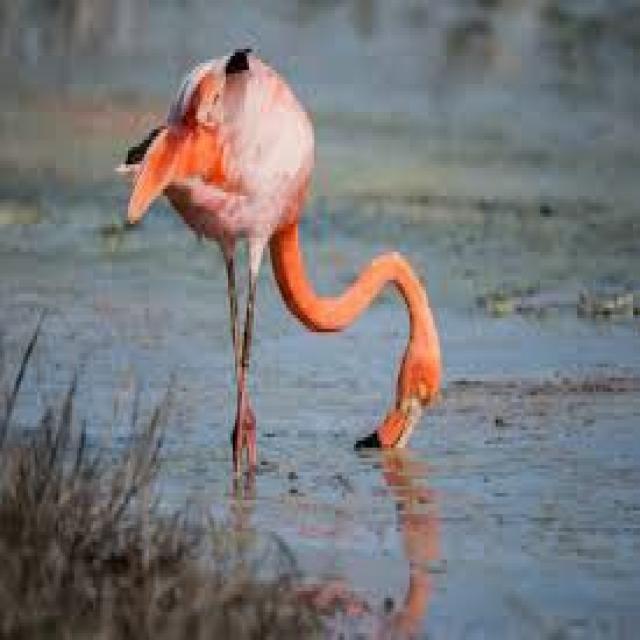Flamingo: (116, 50, 442, 461)
